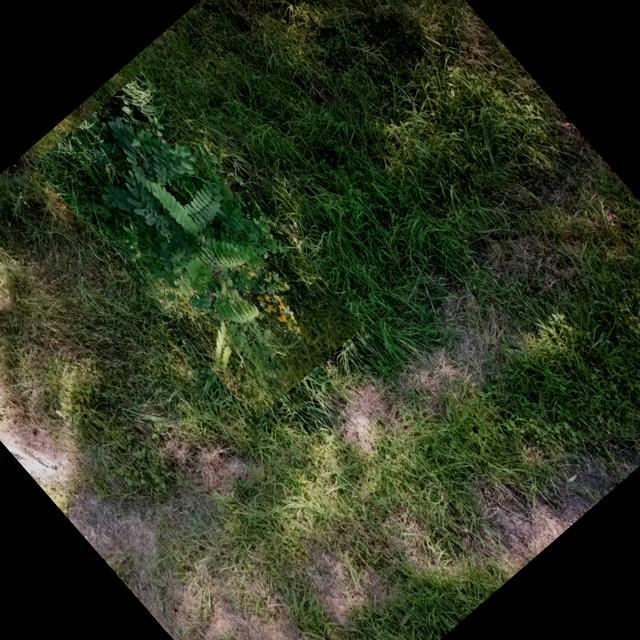Mysore-Thorn-Weed: (34, 70, 364, 420)
